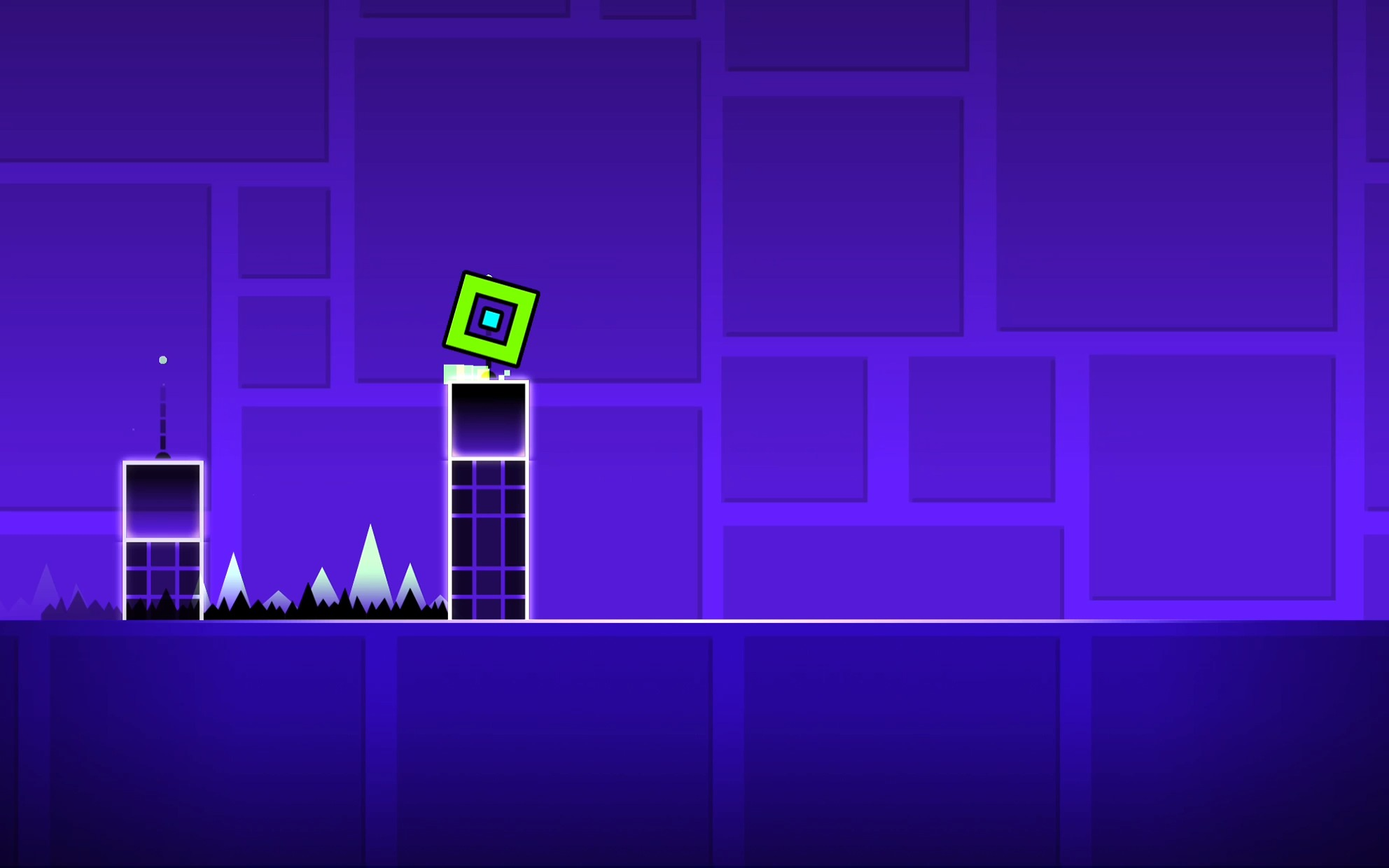Block: (451, 380, 527, 456), (125, 461, 200, 536)
Block2: (454, 459, 526, 619), (126, 543, 204, 623)
Player: (442, 272, 538, 366)
Spike3: (206, 592, 448, 624), (0, 595, 119, 624)
